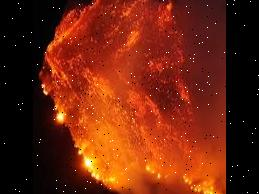fire: (74, 1, 208, 137), (70, 139, 225, 194), (35, 29, 70, 128)
